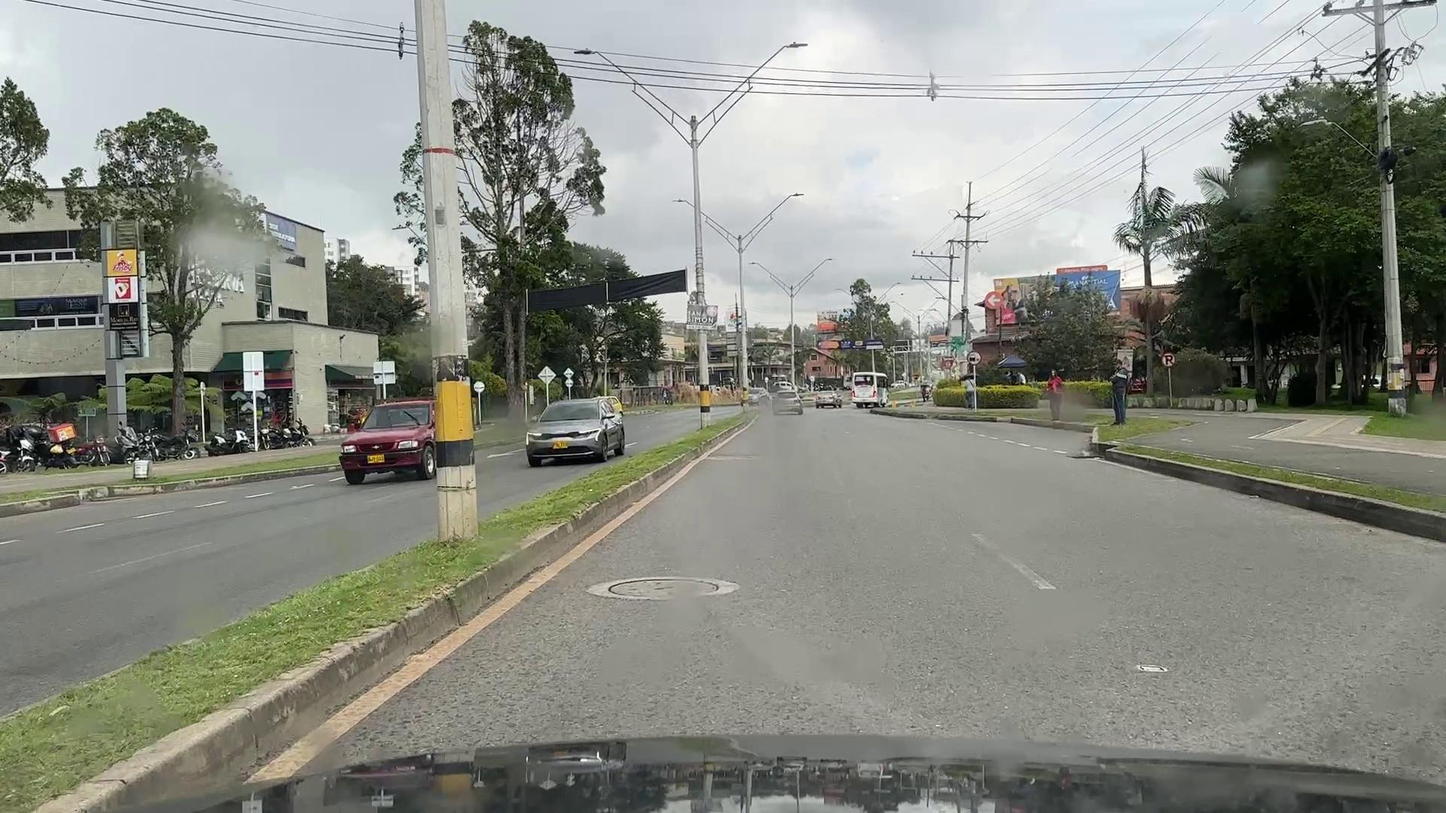registro: (608, 579, 719, 597), (715, 457, 753, 459)
rejilla: (1066, 455, 1105, 459)
